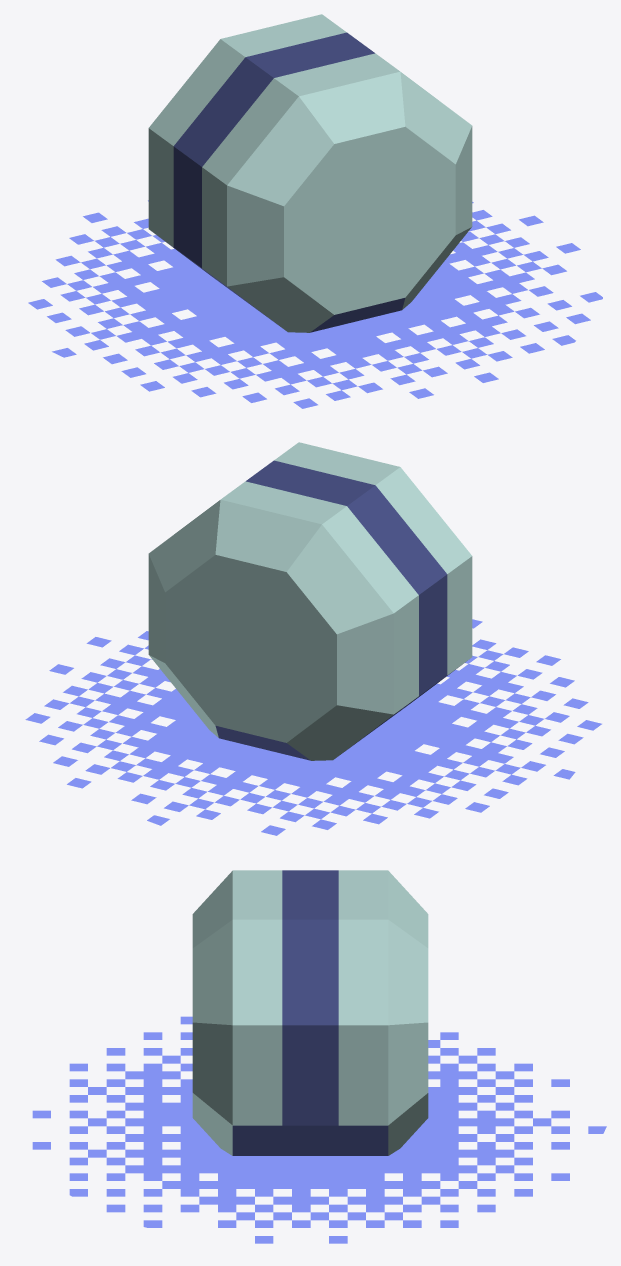
The model's file is bead.glb.
3 views of the same model, one above another, from view 1: azimuth 30°, elevation 25°; view 2: azimuth 150°, elevation 25°; view 3: azimuth 270°, elevation 25° (orthographic).
Parts seen in each view (by area): view 1: Bead0; view 2: Bead0; view 3: Bead0.
Part boxes in pixels (x1=…): Bead0: x1=28, y1=14, x2=602, y2=408; Bead0: x1=25, y1=442, x2=601, y2=835; Bead0: x1=32, y1=870, x2=606, y2=1243.
Size of the model in its own units: 0.8 by 0.3603 by 0.8.
3 materials, 1 textured.
